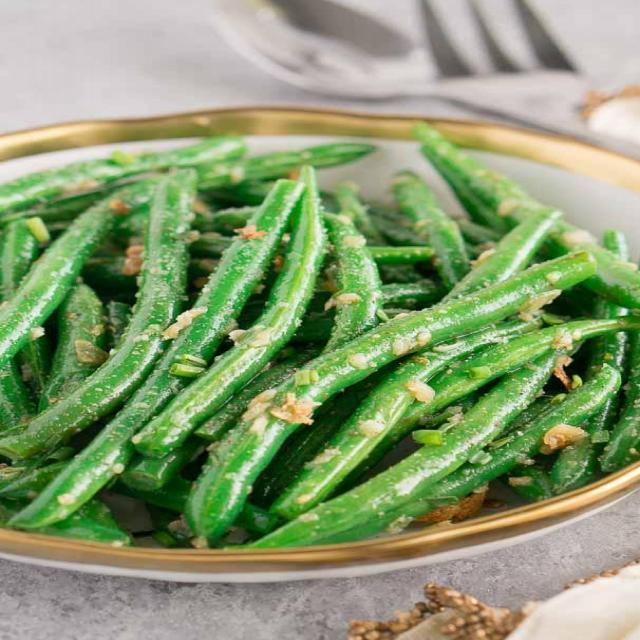Beans: (0, 142, 640, 557)
